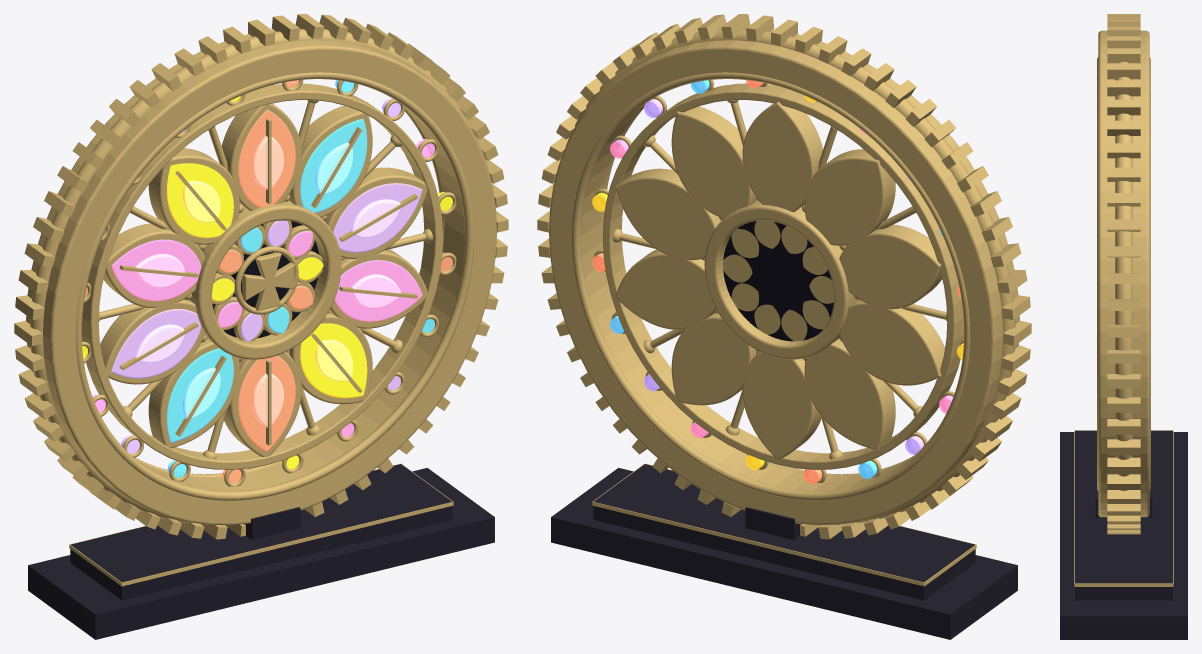
Rendered from lab-irc-rosone.glb.
3 views of the same model, side by side, from view 1: azimuth 30°, elevation 25°; view 2: azimuth 150°, elevation 25°; view 3: azimuth 270°, elevation 25° (orthographic). The views are drawn at different scales.
Parts seen in each view (by area): view 1: cornice, basamento, basamento_alto, anello_tracciato, modanatura_fronte, anello_interno, modanatura_esterna, petalo_10, petalo_9, petalo_1, petalo_5, petalo_4 (+29 smaller); view 2: cornice, basamento, basamento_alto, anello_tracciato, modanatura_retro, anello_interno, petalo_8_piombo, petalo_2_piombo, petalo_1_piombo, petalo_9_piombo, petalo_10_piombo, petalo_7_piombo (+8 smaller); view 3: cornice, basamento_alto, basamento, modanatura_esterna, modanatura_fronte, modanatura_retro, filo_oro, dentello_5, dentello_19, dentello_4, dentello_20, dentello_3 (+23 smaller).
Boxes of the visible parts, bbox=[...] form: cornice: bbox=[26, 29, 496, 525]; basamento: bbox=[28, 468, 494, 639]; basamento_alto: bbox=[70, 464, 452, 600]; anello_tracciato: bbox=[82, 83, 443, 469]; modanatura_fronte: bbox=[75, 72, 474, 500]; anello_interno: bbox=[189, 200, 341, 359]; modanatura_esterna: bbox=[30, 29, 479, 524]; petalo_10: bbox=[167, 163, 233, 238]; petalo_9: bbox=[111, 239, 201, 301]; petalo_1: bbox=[238, 109, 295, 207]; petalo_5: bbox=[300, 323, 367, 398]; petalo_4: bbox=[334, 260, 422, 321]; cornice: bbox=[549, 29, 1019, 525]; basamento: bbox=[551, 468, 1017, 639]; basamento_alto: bbox=[593, 464, 975, 600]; anello_tracciato: bbox=[602, 83, 963, 469]; modanatura_retro: bbox=[571, 72, 970, 500]; anello_interno: bbox=[704, 200, 856, 359]; petalo_8_piombo: bbox=[839, 300, 944, 385]; petalo_2_piombo: bbox=[671, 106, 756, 218]; petalo_1_piombo: bbox=[742, 102, 822, 212]; petalo_9_piombo: bbox=[839, 224, 942, 309]; petalo_10_piombo: bbox=[804, 149, 895, 245]; petalo_7_piombo: bbox=[804, 339, 895, 450]; cornice: bbox=[1098, 30, 1149, 517]; basamento_alto: bbox=[1075, 430, 1172, 600]; basamento: bbox=[1060, 432, 1187, 639]; modanatura_esterna: bbox=[1115, 61, 1132, 490]; modanatura_fronte: bbox=[1097, 57, 1098, 490]; modanatura_retro: bbox=[1149, 57, 1150, 490]; filo_oro: bbox=[1074, 430, 1173, 586]; dentello_5: bbox=[1107, 99, 1140, 115]; dentello_19: bbox=[1107, 439, 1140, 455]; dentello_4: bbox=[1107, 80, 1140, 96]; dentello_20: bbox=[1107, 457, 1140, 473]; dentello_3: bbox=[1107, 63, 1140, 79].
Size of the model in its own units: 0.692 by 0.748 by 0.17.
